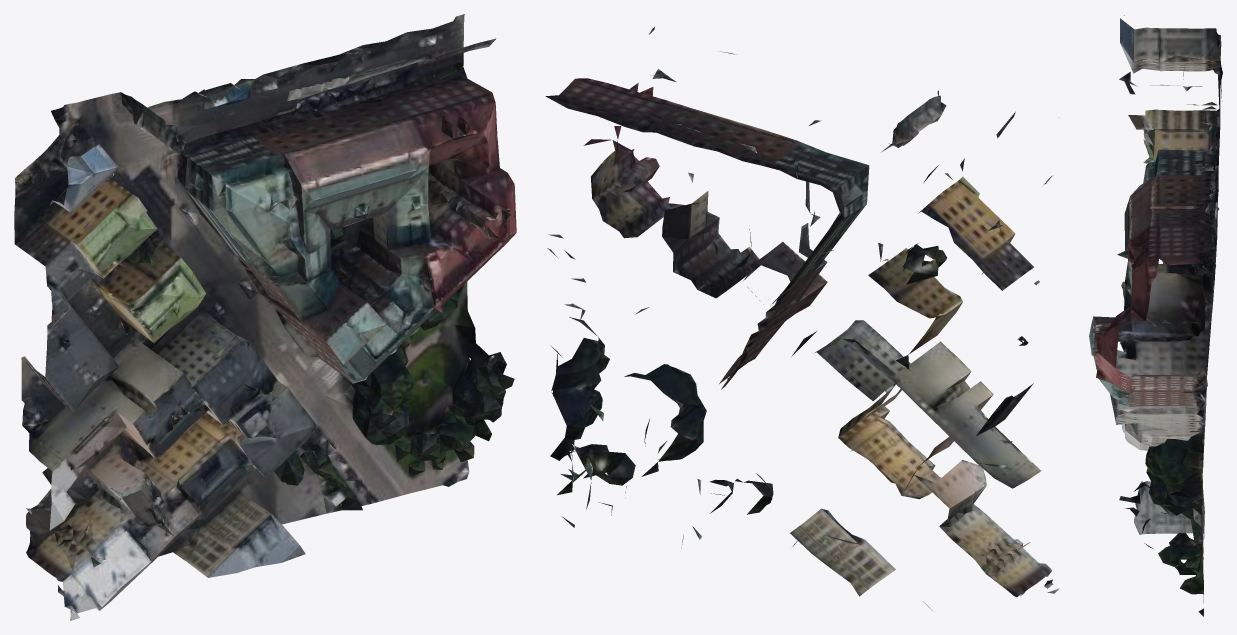
The model's file is Tile_+034_+018_L17_0001.glb.
3 views of the same model, side by side, from view 1: azimuth 30°, elevation 25°; view 2: azimuth 150°, elevation 25°; view 3: azimuth 270°, elevation 25° (orthographic). The views are drawn at different scales.
Bounding box in the file's own units: 126 × 126 × 36.94.
1 material, 1 textured.
